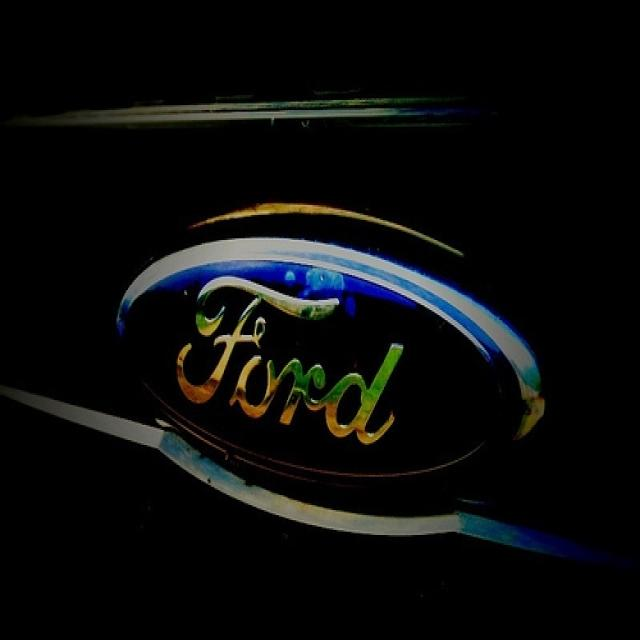ford: (102, 228, 555, 499)
